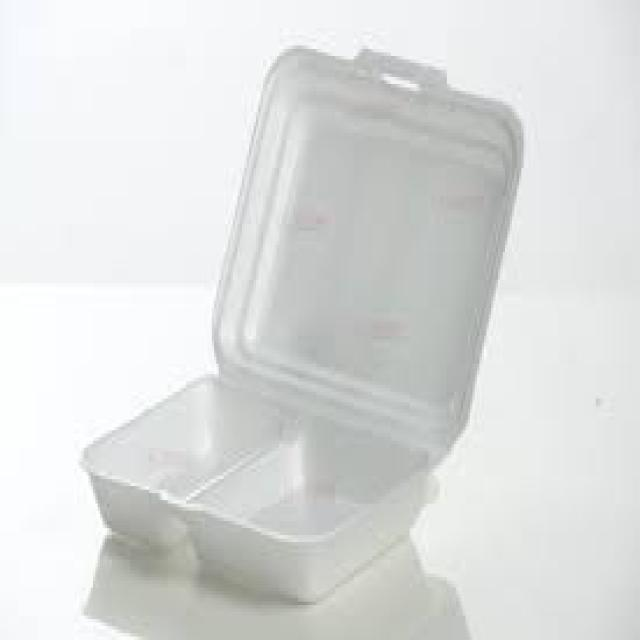styrofoam: (84, 56, 523, 600)
